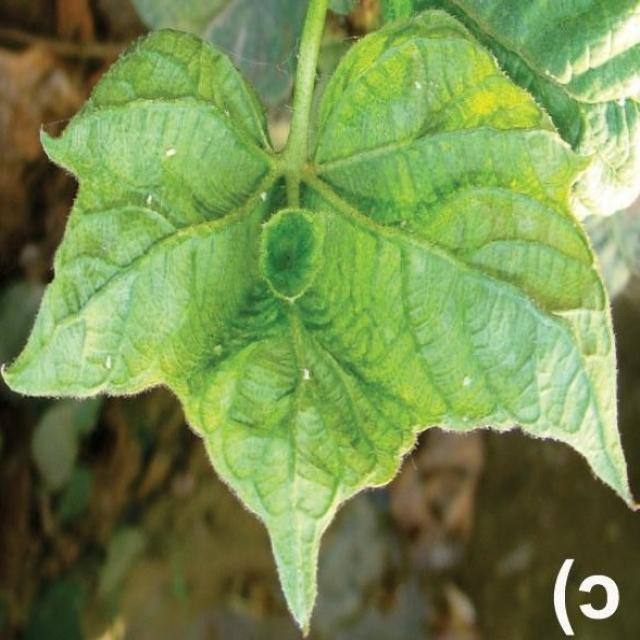Leaf Curl Virus: (128, 63, 513, 410)
